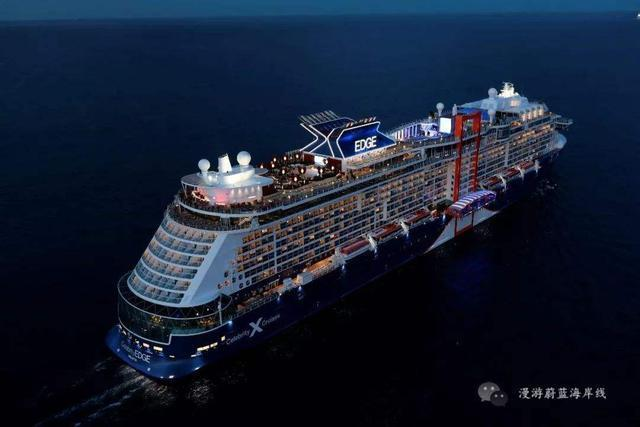Ship: (124, 86, 574, 393)
